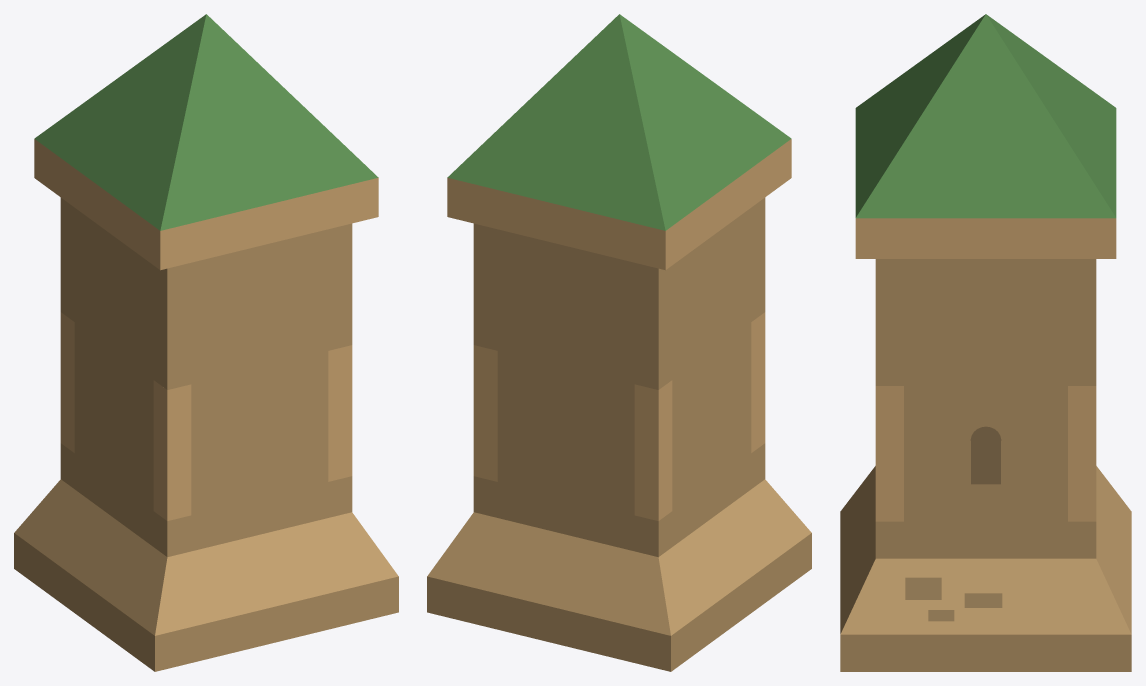
File: PoisonedTower.dae
3 views of the same model, side by side, from view 1: azimuth 30°, elevation 25°; view 2: azimuth 150°, elevation 25°; view 3: azimuth 270°, elevation 25° (orthographic). The views are drawn at different scales.
Parts seen in each view (by area): view 1: Group103 (×3), Group18, Group80 (×4); view 2: Group103 (×3), Group18, Group80 (×4); view 3: Group103 (×3), Group18 (×3), Group80 (×4).
Boxes of the visible parts, box(x1,y1,x2,y2) form: Group103 (×3): box(34, 14, 378, 389); Group18: box(14, 443, 398, 671); Group80 (×4): box(60, 312, 352, 520); Group103 (×3): box(447, 14, 791, 389); Group18: box(427, 443, 811, 671); Group80 (×4): box(473, 312, 765, 520); Group103 (×3): box(855, 14, 1116, 385); Group18 (×3): box(840, 466, 1131, 671); Group80 (×4): box(875, 386, 1096, 521).
Size of the model in its own units: 30.66 by 30.66 by 69.29.
